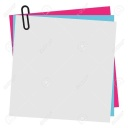Metal: (14, 3, 39, 36)
